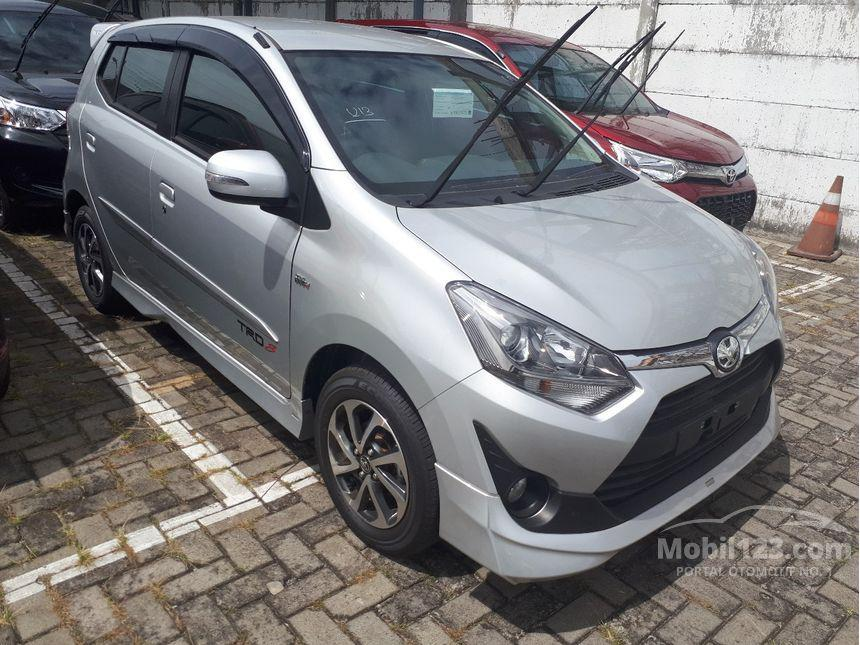mobil: (38, 5, 792, 584)
